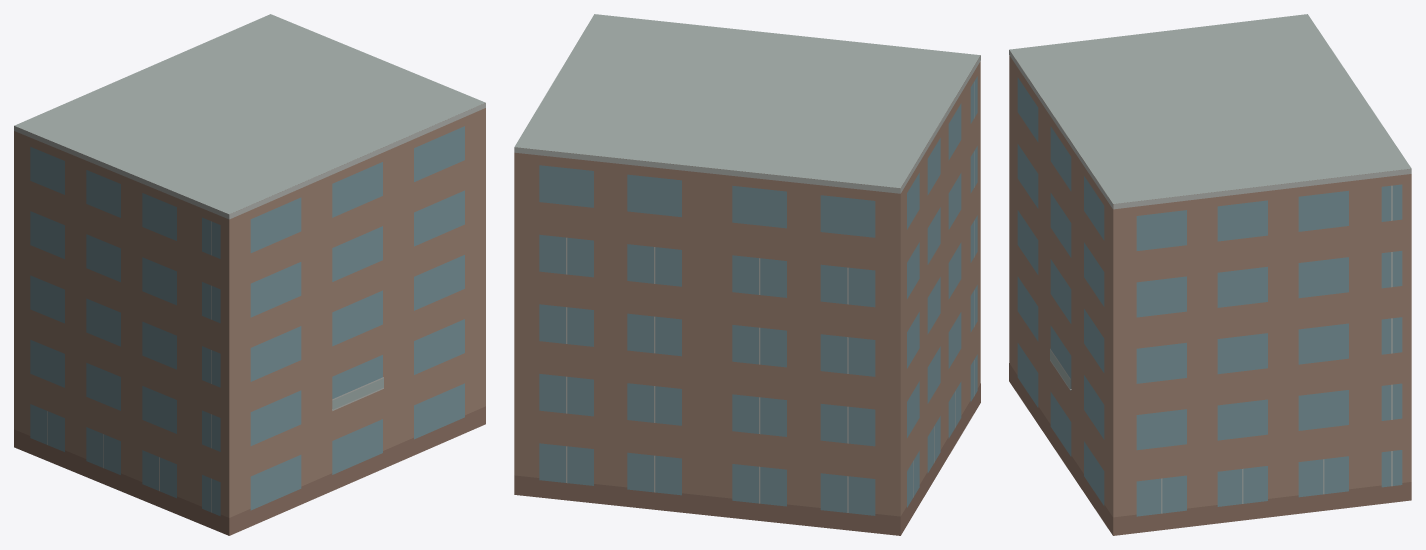
Rendered from survey-upis-32557648.glb.
3 views of the same model, side by side, from view 1: azimuth 30°, elevation 25°; view 2: azimuth 150°, elevation 25°; view 3: azimuth 270°, elevation 25° (orthographic). The views are drawn at different scales.
Visible parts, largest first — view 1: survey-upis-32557648.tmp; view 2: survey-upis-32557648.tmp; view 3: survey-upis-32557648.tmp.
Part boxes in pixels (left/top/right/bottom): survey-upis-32557648.tmp: left=14, top=14, right=485, bottom=535; survey-upis-32557648.tmp: left=514, top=14, right=980, bottom=535; survey-upis-32557648.tmp: left=1009, top=14, right=1411, bottom=535.
Bounding box in the file's own units: 18.81 × 15.3 × 16.83.
